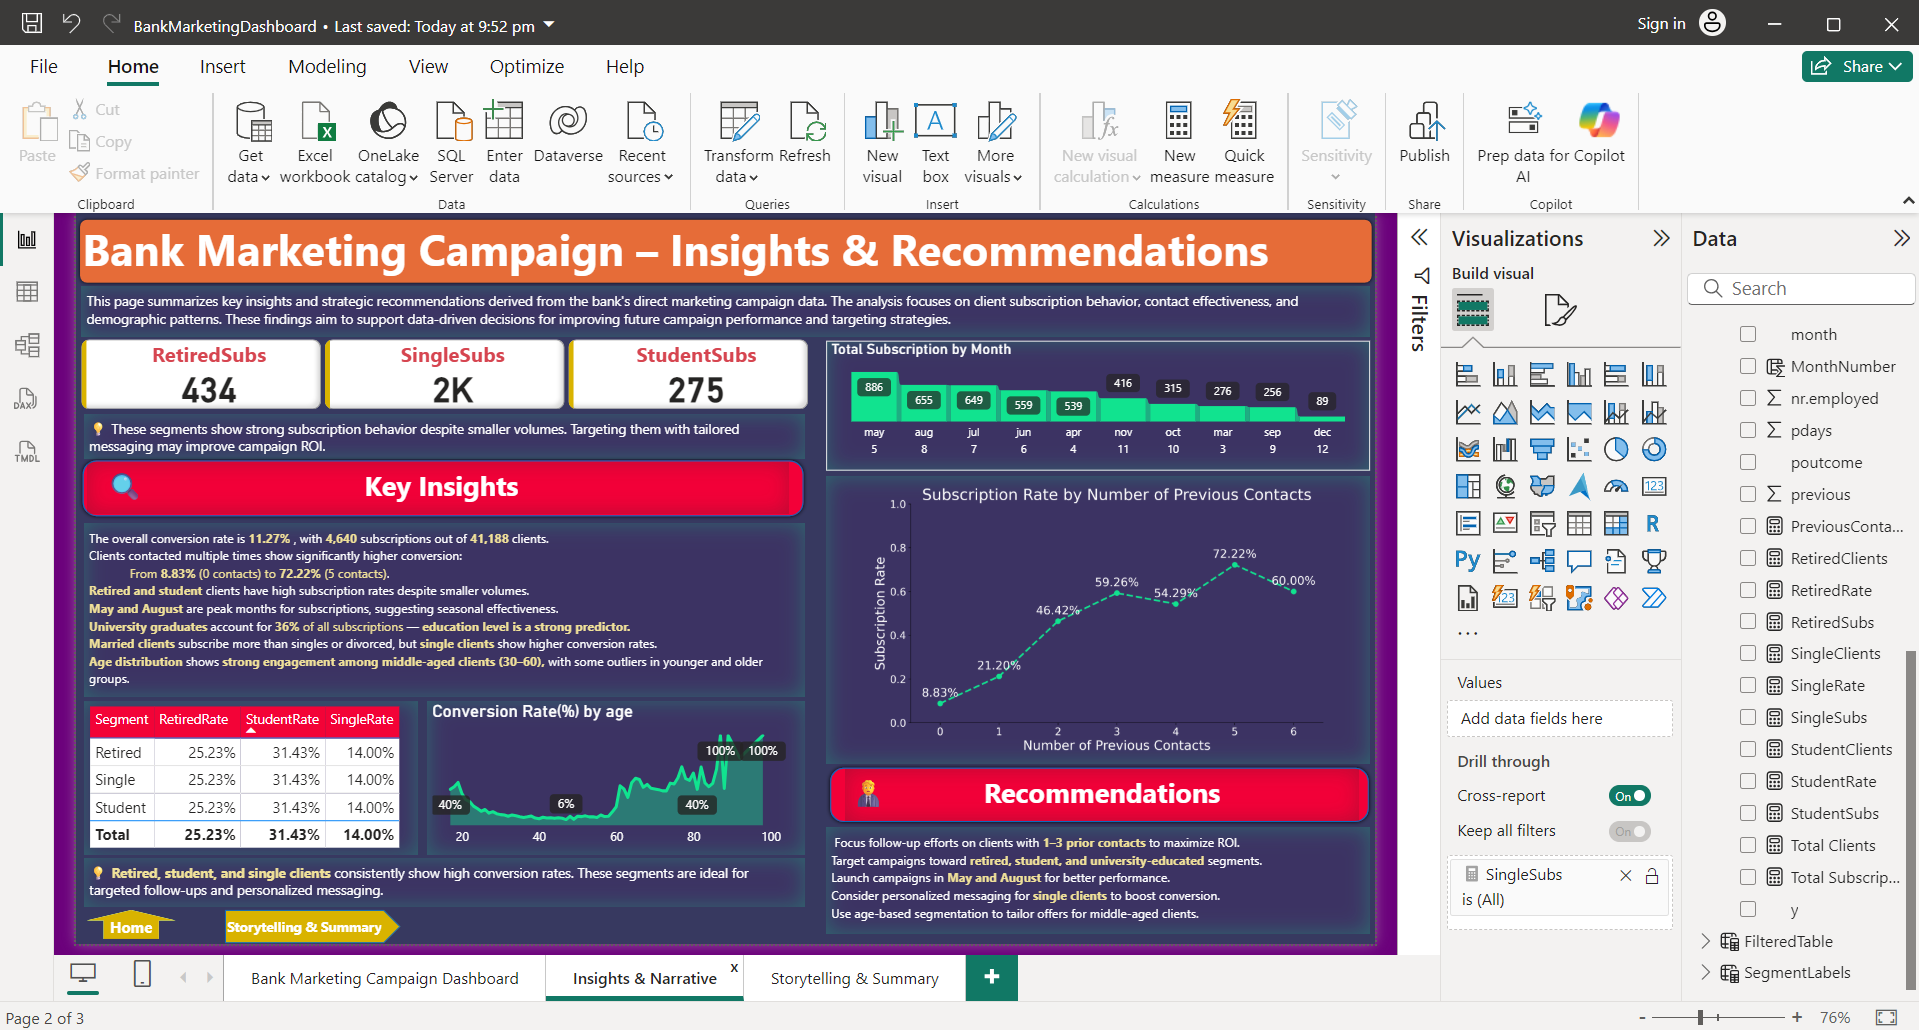

What the dashboard file says about the page in this screenshot:
{"tool":"powerbi","page":{"name":"Insights & Narrative","canvas":[1280,720],"ordinal":1},"visuals":[{"type":"shape","box":[738.7,542.6,538.3,61.6],"z":0},{"type":"shape","box":[2.6,240.2,717.7,62.9],"z":1000},{"type":"shape","box":[0,2.9,1280,70],"z":2000},{"type":"textbox","box":[1.3,1.3,1275.7,72],"z":3000},{"type":"textbox","box":[5.2,72,1269.2,49.8],"z":4000},{"type":"textbox","box":[7.9,305.2,709.9,171.6],"z":5000},{"type":"textbox","box":[10.5,245.2,691.6,51.1],"z":6000},{"type":"textbox","box":[757,547.8,506.9,51.1],"z":7000},{"type":"textbox","box":[738.7,605.1,535.7,104.8],"z":8000},{"type":"lineChart","fields":{"Category":["bank_marketing_cleaned.age"],"Y":["bank_marketing_cleaned.Conversion Rate(%)"]},"box":[345.8,480.2,372,151.9],"z":9000},{"type":"columnChart","title":"Total Subscription by Month","fields":{"Category":["bank_marketing_cleaned.MonthNumber","bank_marketing_cleaned.month"],"Y":["bank_marketing_cleaned.Total Subscription"]},"box":[738.7,125.7,535.7,128.3],"z":10000},{"type":"textbox","box":[7.9,197.8,709.9,44.5],"z":11000},{"type":"tableEx","title":"Conversion Rate","fields":{"Values":["SegmentLabels.Segment","bank_marketing_cleaned.RetiredRate","bank_marketing_cleaned.StudentRate","bank_marketing_cleaned.SingleRate"]},"box":[7.9,480.2,328.7,151.9],"z":12000},{"type":"textbox","box":[7.9,635.2,709.9,48.5],"z":13000},{"type":"pythonVisual","fields":{"Values":["FilteredTable.y","FilteredTable.previous","FilteredTable.poutcome","FilteredTable.pdays","FilteredTable.nr.employed","FilteredTable.MonthNumber","FilteredTable.month","FilteredTable.marital","FilteredTable.loan","FilteredTable.job","FilteredTable.housing","FilteredTable.euribor3m"]},"box":[738.5,259.7,536.1,283.4],"z":14000},{"type":"cardVisual","fields":{"Data":["bank_marketing_cleaned.RetiredSubs","bank_marketing_cleaned.SingleSubs","bank_marketing_cleaned.StudentSubs"]},"box":[0,119.2,728.2,79.9],"z":15000},{"type":"shape","box":[10.5,686.3,87.8,28.8],"z":16000},{"type":"shape","box":[146.7,686.3,172.9,32.7],"z":17000},{"type":"textbox","box":[24.9,245.2,61.6,60.2],"z":18000},{"type":"textbox","box":[757,547.8,52.4,51.1],"z":19000}]}

Visuals, with their boxes on the page's 1280x720 design canvas (x1, y1, x2, y2). These are canvas units, not pixel positions in the 1919x1030 screenshot, which may show the page scaled, cropped or inside an application window:
shape: detection(739, 543, 1277, 604)
shape: detection(3, 240, 720, 303)
shape: detection(0, 3, 1280, 73)
textbox: detection(1, 1, 1277, 73)
textbox: detection(5, 72, 1274, 122)
textbox: detection(8, 305, 718, 477)
textbox: detection(10, 245, 702, 296)
textbox: detection(757, 548, 1264, 599)
textbox: detection(739, 605, 1274, 710)
lineChart - bank_marketing_cleaned.age x bank_marketing_cleaned.Conversion Rate(%): detection(346, 480, 718, 632)
"Total Subscription by Month" columnChart: detection(739, 126, 1274, 254)
textbox: detection(8, 198, 718, 242)
"Conversion Rate" tableEx: detection(8, 480, 337, 632)
textbox: detection(8, 635, 718, 684)
pythonVisual - FilteredTable.y x FilteredTable.previous: detection(738, 260, 1275, 543)
cardVisual - bank_marketing_cleaned.RetiredSubs x bank_marketing_cleaned.SingleSubs: detection(0, 119, 728, 199)
shape: detection(10, 686, 98, 715)
shape: detection(147, 686, 320, 719)
textbox: detection(25, 245, 86, 305)
textbox: detection(757, 548, 809, 599)
